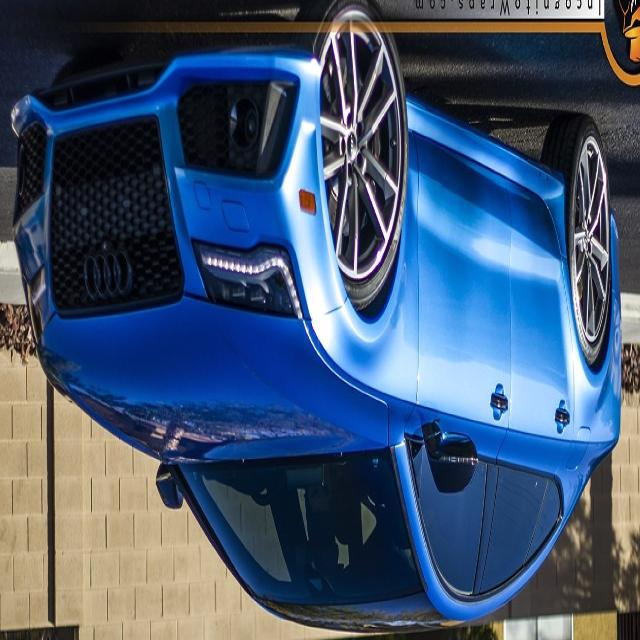blue: (0, 0, 630, 640)
